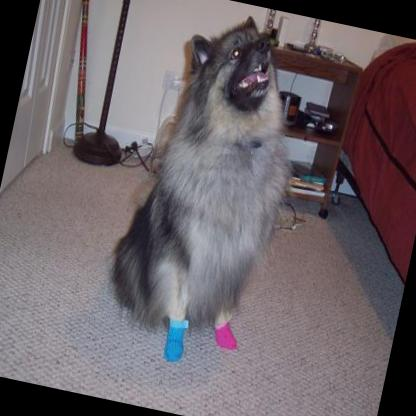keeshond: (89, 0, 317, 377)
